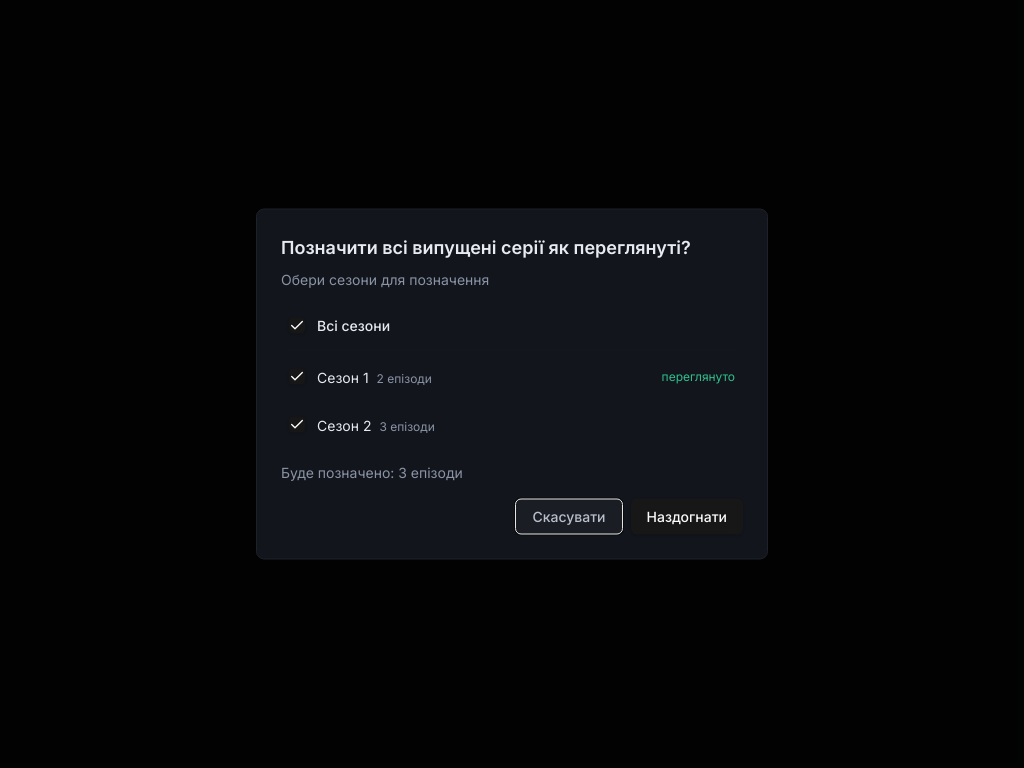
CatchUpDialog › summary live region › shows both mark and unmark text in mixed scenario
Click the checkbox next to "Сезон 1" at [297, 376], box [289, 368, 305, 384]
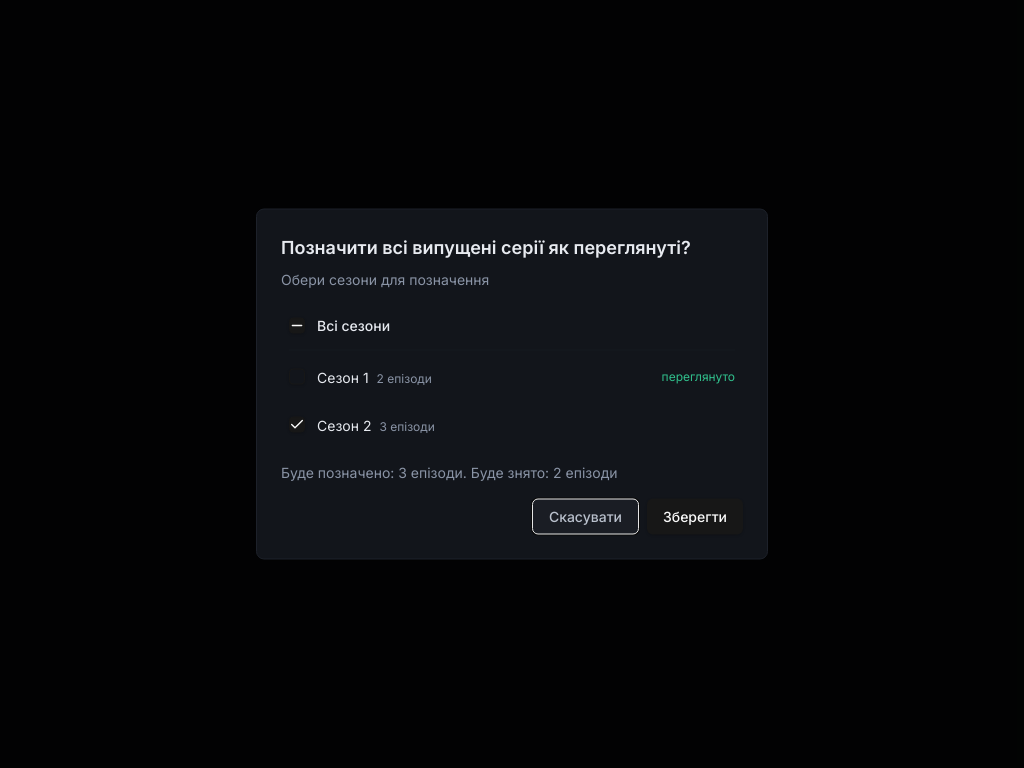
Check: the message shows "Буде позначено", box [281, 464, 618, 480]
Check: the message shows "Буде знято", box [281, 464, 618, 480]
